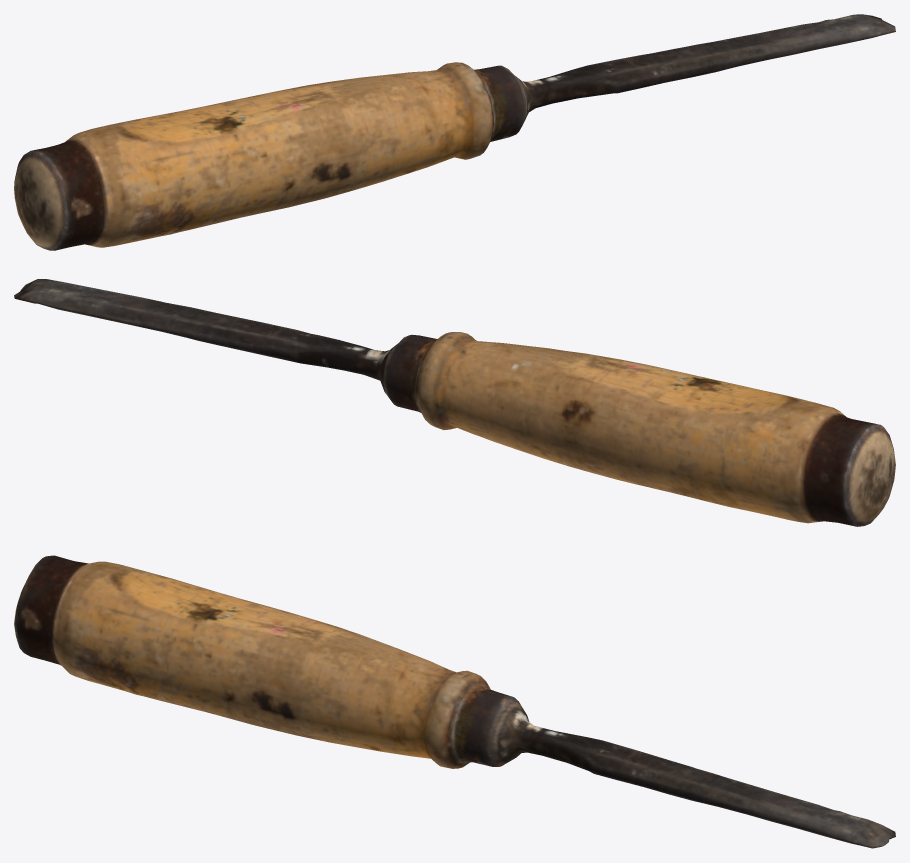
The model's file is Hand_Tools_Pack_ubikcfuva_Mid_Chisel.fbx.
The picture shows the model from 3 angles, top to bottom: view 1: azimuth 30°, elevation 25°; view 2: azimuth 150°, elevation 25°; view 3: azimuth 330°, elevation 25°; orthographic projection.
Visible parts, largest first — view 1: ubikcfuva_LOD0_TIER2_002; view 2: ubikcfuva_LOD0_TIER2_002; view 3: ubikcfuva_LOD0_TIER2_002.
Part boxes in pixels (x1,y1,x2,y2): ubikcfuva_LOD0_TIER2_002: (14,14,895,250); ubikcfuva_LOD0_TIER2_002: (14,279,895,526); ubikcfuva_LOD0_TIER2_002: (14,555,895,848).
Bounding box in the file's own units: 21.02 × 2.54 × 2.6.
1 material, 1 textured.
